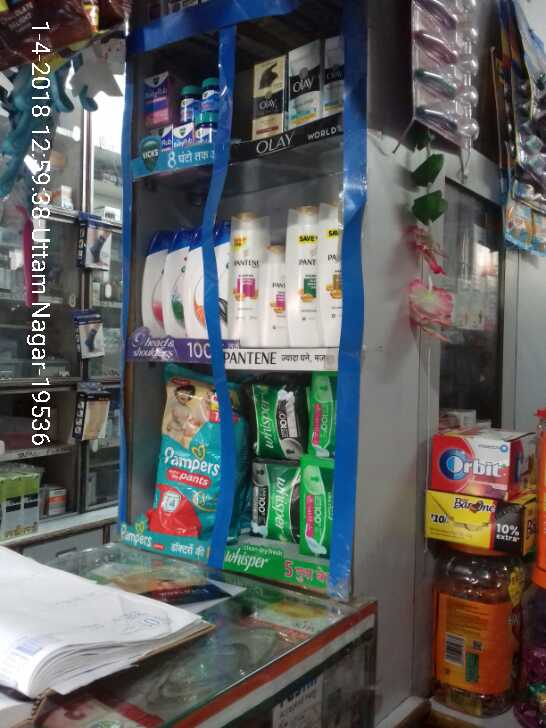vicks: (140, 73, 215, 154)
